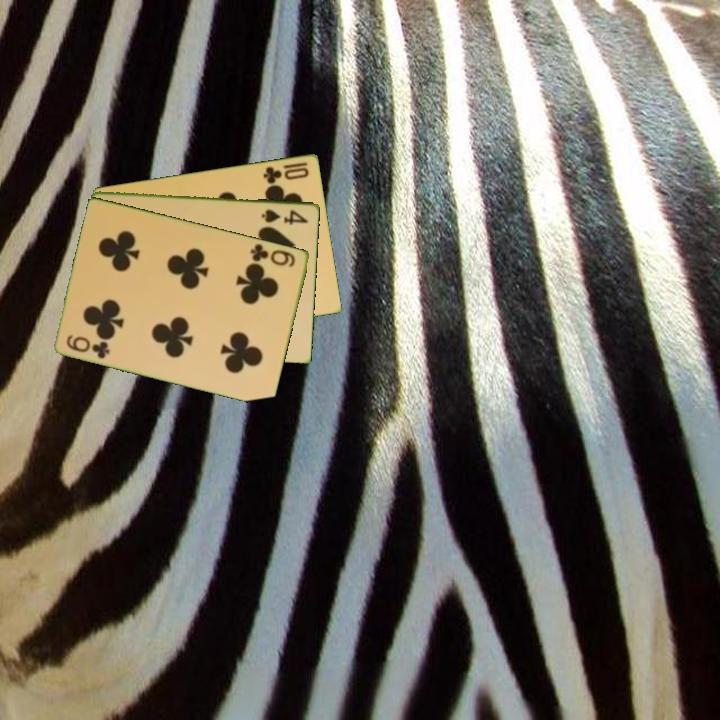10c: (260, 158, 312, 186)
4s: (258, 206, 311, 227)
6c: (63, 331, 113, 361), (247, 240, 298, 269)
